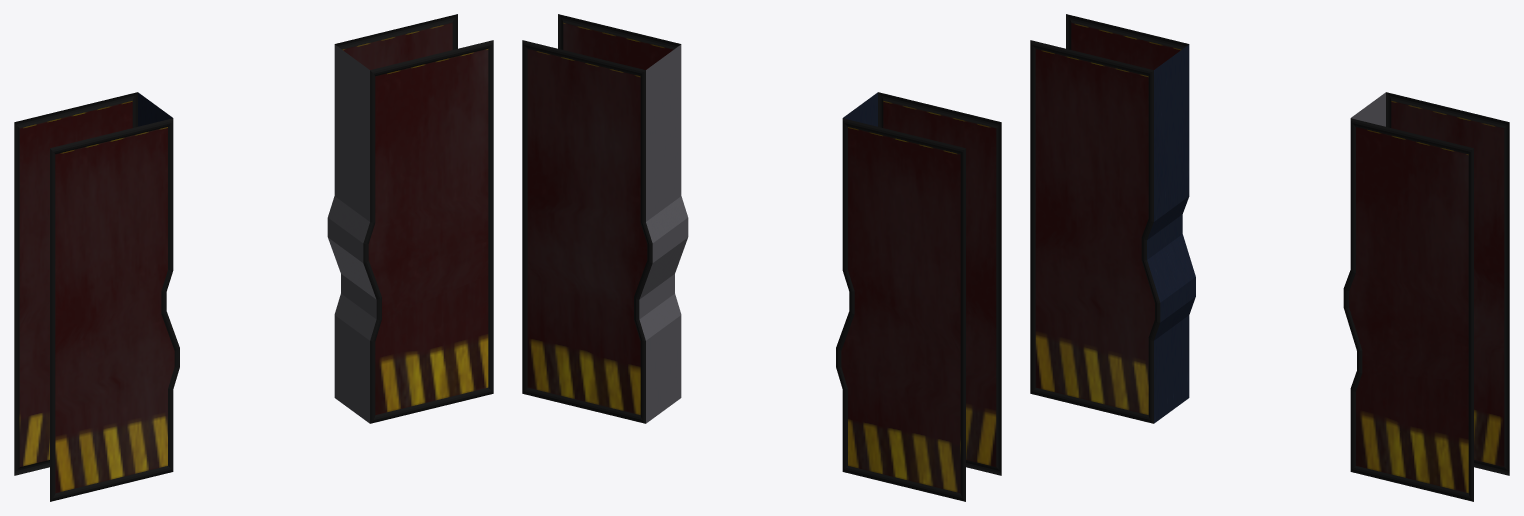
Rendered from door-frame-locked_000005.obj.
3 views of the same model, side by side, from view 1: azimuth 30°, elevation 25°; view 2: azimuth 150°, elevation 25°; view 3: azimuth 330°, elevation 25° (orthographic).
Parts seen in each view (by area): view 1: Door.Left_Cube.007, Door.Right_Cube.006; view 2: Door.Left_Cube.007, Door.Right_Cube.006; view 3: Door.Left_Cube.007, Door.Right_Cube.006.
Boxes of the visible parts, x1,y1,x2,y2 form: Door.Left_Cube.007: (327, 14, 493, 423); Door.Right_Cube.006: (14, 92, 179, 501); Door.Left_Cube.007: (522, 14, 688, 423); Door.Right_Cube.006: (836, 92, 1001, 501); Door.Left_Cube.007: (1343, 92, 1509, 501); Door.Right_Cube.006: (1030, 14, 1195, 423).
Bounding box in the file's own units: 6.9 × 5.26 × 0.9998.
Materials: 6 (6 with a texture image).
